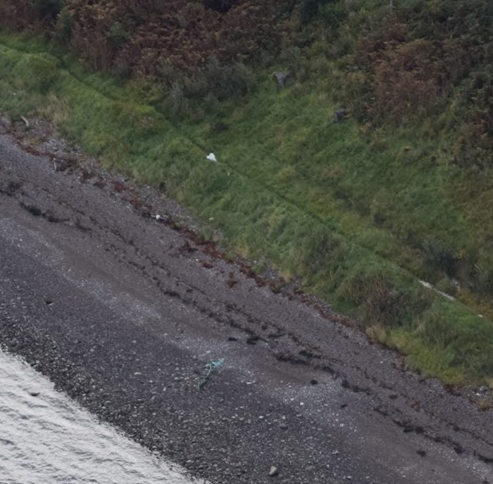net: (193, 354, 227, 390)
white_in_green: (181, 127, 243, 185), (141, 201, 175, 232)
